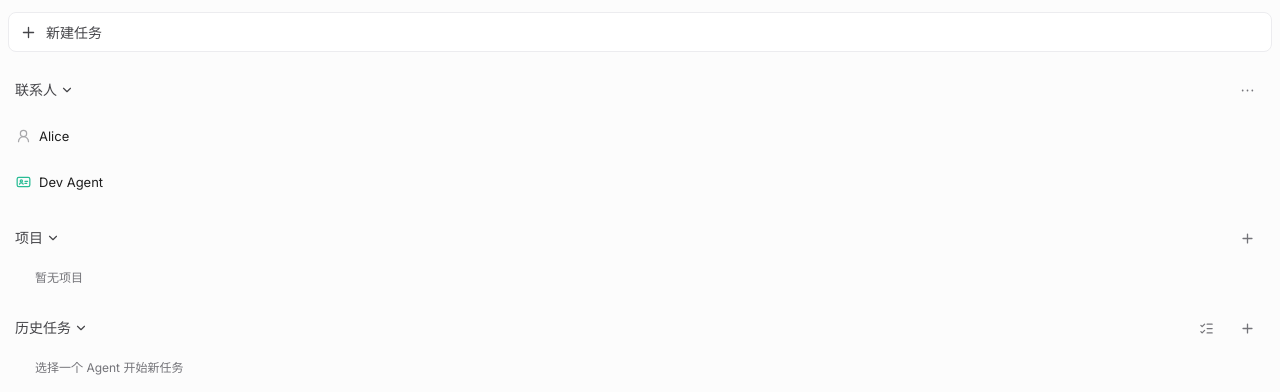
Test: ChatListView sidebar sections › shows unread friend dots while contacts are collapsed and clears them after opening the friend
Click the button with class "cc-section-toggle" showing "联系人" at coordinates (36, 90), box [15,80,1261,100]
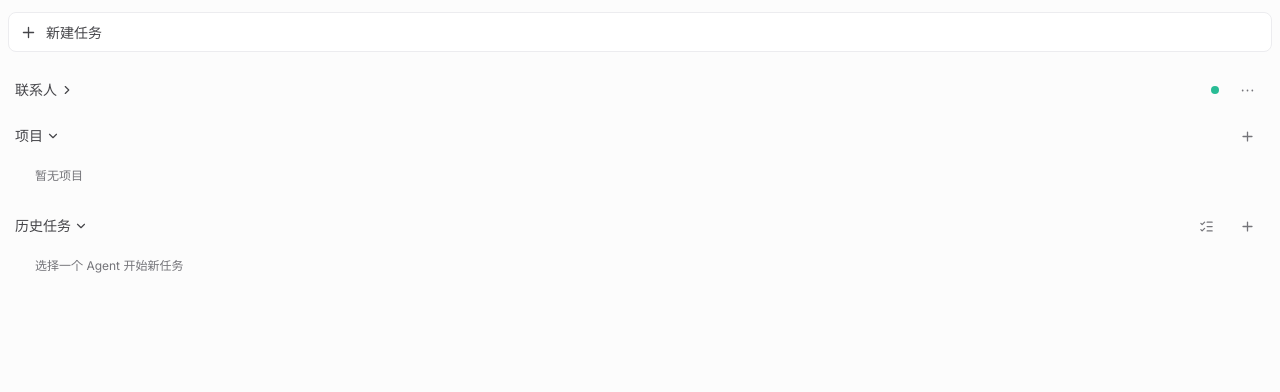
Expected: the button with class "cc-section-toggle" is collapsed
Expected: the message with class "cc-section-unread-dot" is shown, [1211,86,1219,94]
Click the button with class "cc-section-toggle" showing "联系人" at coordinates (36, 90), box [15,80,1261,100]
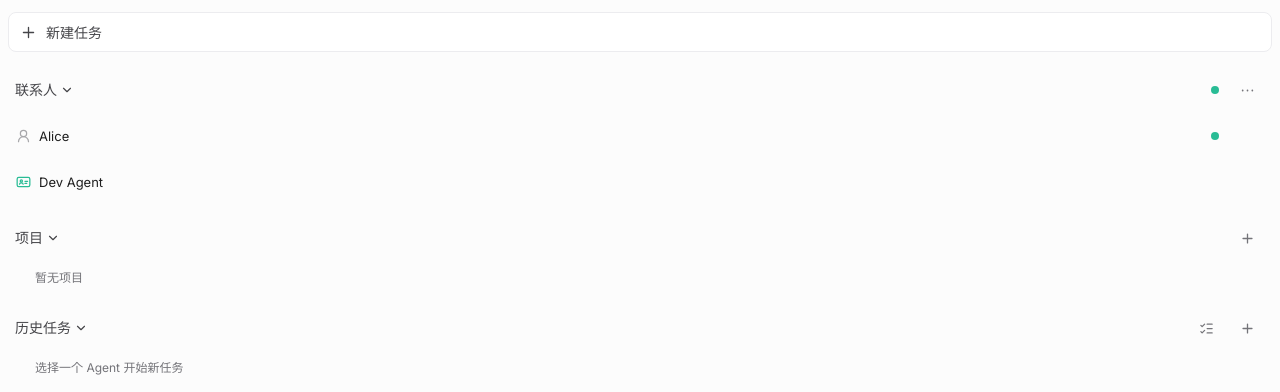
Expected: the message with class "cc-section-unread-dot" is shown, [1211,86,1219,94]
Expected: the message with class "cc-friend-unread-dot" is shown, [1211,132,1219,140]
Click the element showing "Alice" at coordinates (638, 136), box [7,114,1269,158]
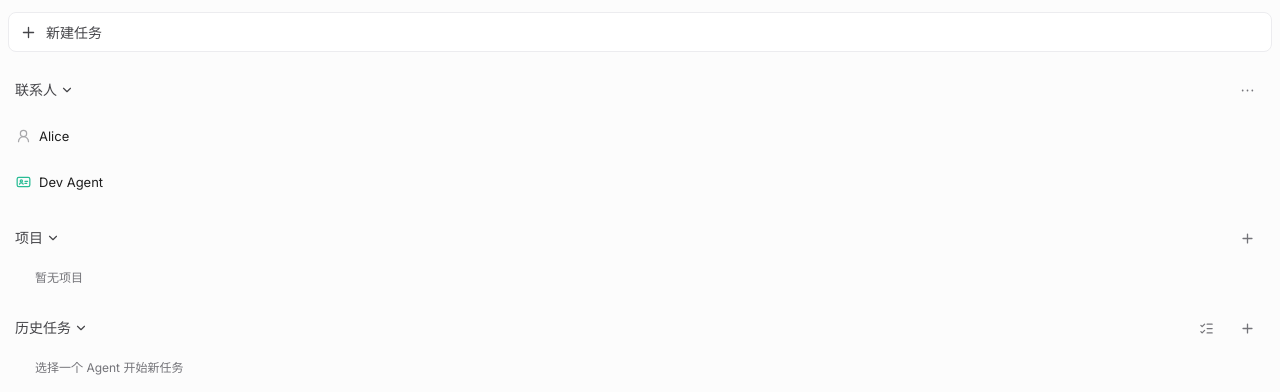
Expected: the message with class "cc-friend-unread-dot" is gone
Expected: the message with class "cc-section-unread-dot" is gone
